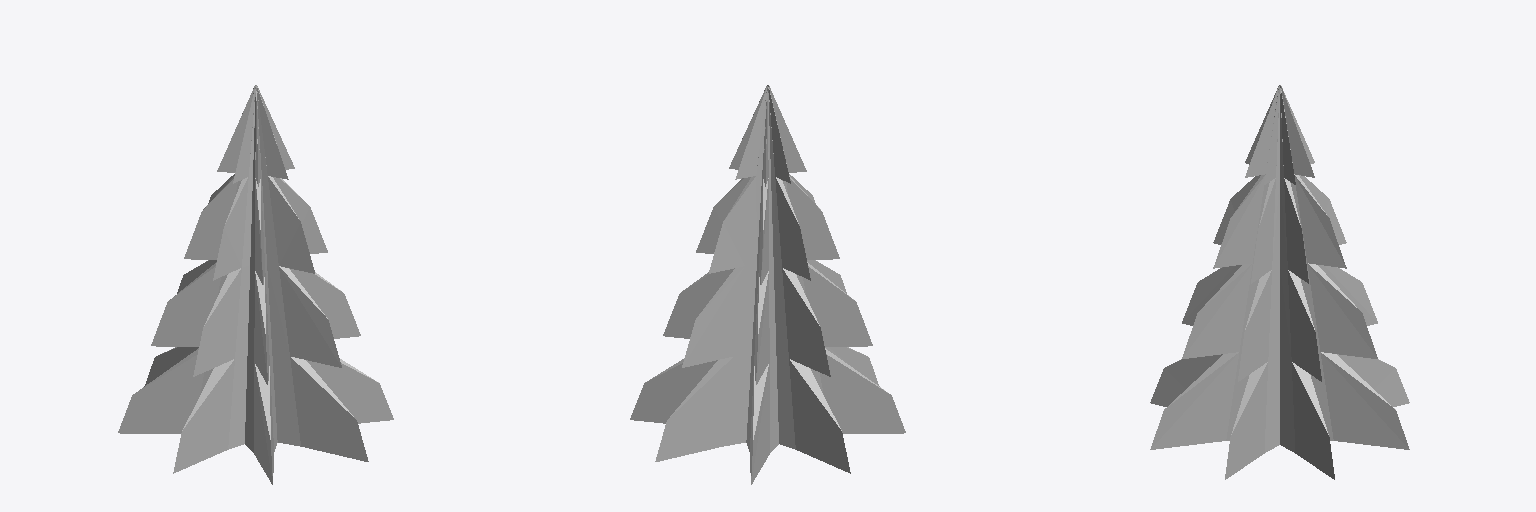
Rendered from Denneboom_1_001.obj.
The picture shows the model from 3 angles: view 1: azimuth 30°, elevation 25°; view 2: azimuth 150°, elevation 25°; view 3: azimuth 270°, elevation 25°; orthographic projection.
Visible parts, largest first — view 1: Cylinder; view 2: Cylinder; view 3: Cylinder.
Boxes of the visible parts, x1=… form: Cylinder: x1=118, y1=85, x2=393, y2=484; Cylinder: x1=630, y1=85, x2=905, y2=484; Cylinder: x1=1150, y1=85, x2=1409, y2=479.
Bounding box in the file's own units: 2.52 × 3.72 × 2.57.